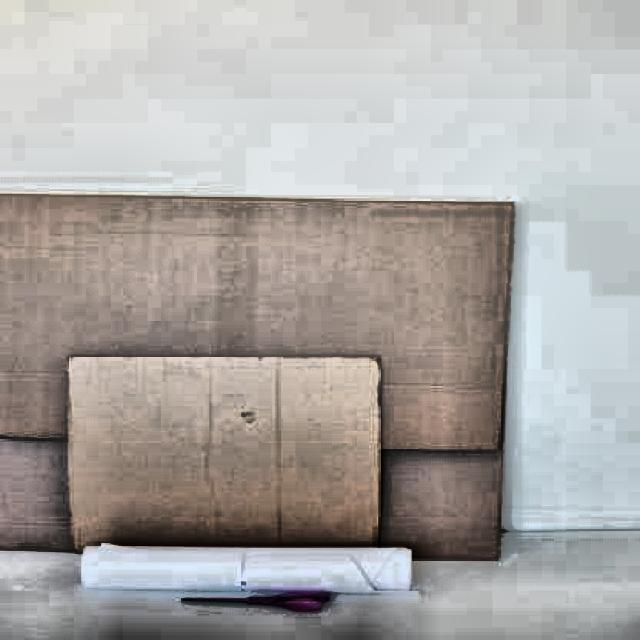Cardbox: (0, 162, 528, 606)
